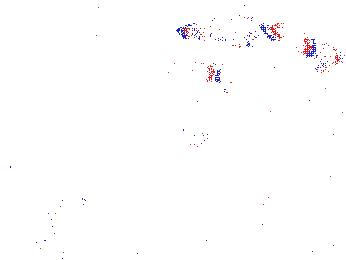X-ray fish: (89, 75, 141, 120)
glassfish: (179, 123, 271, 175)
redtail glassfish: (174, 15, 283, 43), (303, 37, 345, 71), (207, 58, 234, 93)
